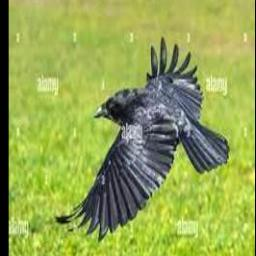Crow: (54, 38, 229, 242)
